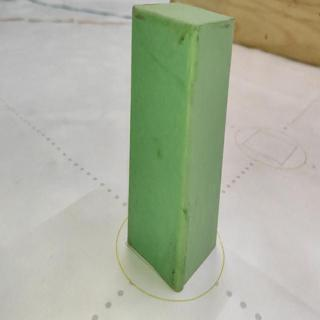greenbox: (131, 3, 223, 288)
